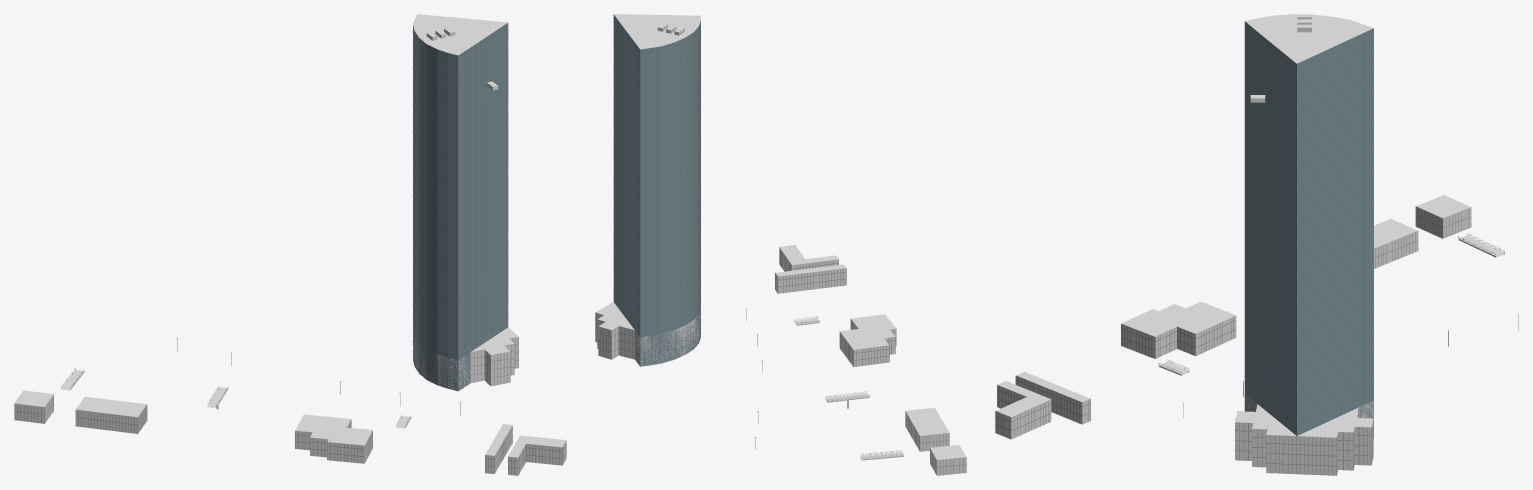
3 renders of one model, left to right at view 1: azimuth 30°, elevation 25°; view 2: azimuth 150°, elevation 25°; view 3: azimuth 270°, elevation 25°, orthographic. The views are drawn at different scales.
Visible parts, largest first — view 1: -1_-3_v02 中性蓝灰幕墙, -1_-3_v02 铝合金幕墙框, -1_-3_v02 米白石材, -1_-3_v02 深灰屋面, -1_-3_城市金属细框, -1_-3_步行桥面 · 7m; view 2: -1_-3_v02 中性蓝灰幕墙, -1_-3_v02 铝合金幕墙框, -1_-3_v02 米白石材, -1_-3_v02 深灰屋面, -1_-3_城市金属细框, -1_-3_步行桥面 · 7m, -1_-3_桥栏杆银灰; view 3: -1_-3_v02 中性蓝灰幕墙, -1_-3_v02 铝合金幕墙框, -1_-3_v02 米白石材, -1_-3_v02 深灰屋面, -1_-3_城市金属细框, -1_-3_步行桥面 · 7m.
Part boxes in pixels (x1,y1,x2,y2): -1_-3_v02 中性蓝灰幕墙: [413, 23, 508, 390]; -1_-3_v02 铝合金幕墙框: [14, 24, 518, 433]; -1_-3_v02 米白石材: [14, 330, 566, 475]; -1_-3_v02 深灰屋面: [14, 14, 566, 457]; -1_-3_城市金属细框: [295, 421, 566, 475]; -1_-3_步行桥面 · 7m: [61, 370, 411, 428]; -1_-3_v02 中性蓝灰幕墙: [613, 14, 700, 366]; -1_-3_v02 铝合金幕墙框: [595, 17, 966, 475]; -1_-3_v02 米白石材: [595, 247, 966, 475]; -1_-3_v02 深灰屋面: [596, 14, 965, 459]; -1_-3_城市金属细框: [775, 250, 896, 366]; -1_-3_步行桥面 · 7m: [794, 318, 904, 460]; -1_-3_桥栏杆银灰: [746, 309, 903, 459]; -1_-3_v02 中性蓝灰幕墙: [1245, 21, 1373, 435]; -1_-3_v02 铝合金幕墙框: [1235, 21, 1471, 475]; -1_-3_v02 米白石材: [995, 206, 1470, 475]; -1_-3_v02 深灰屋面: [996, 14, 1470, 437]; -1_-3_城市金属细框: [995, 317, 1236, 437]; -1_-3_步行桥面 · 7m: [1159, 236, 1504, 375].
Bounding box in the file's own units: 251 × 186 × 213.
